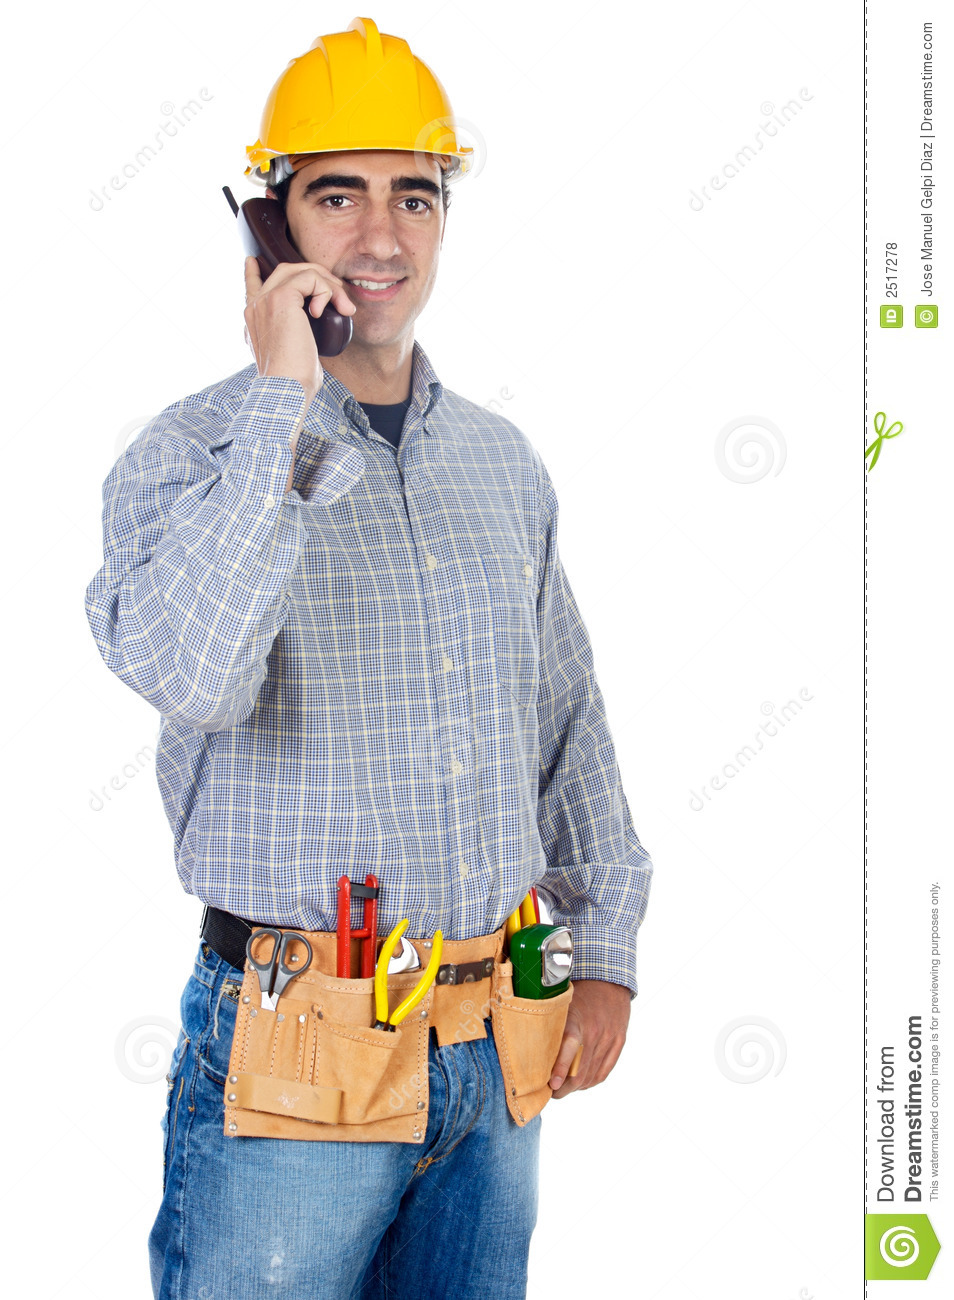phone: (241, 191, 349, 363)
talk: (237, 167, 440, 403)
